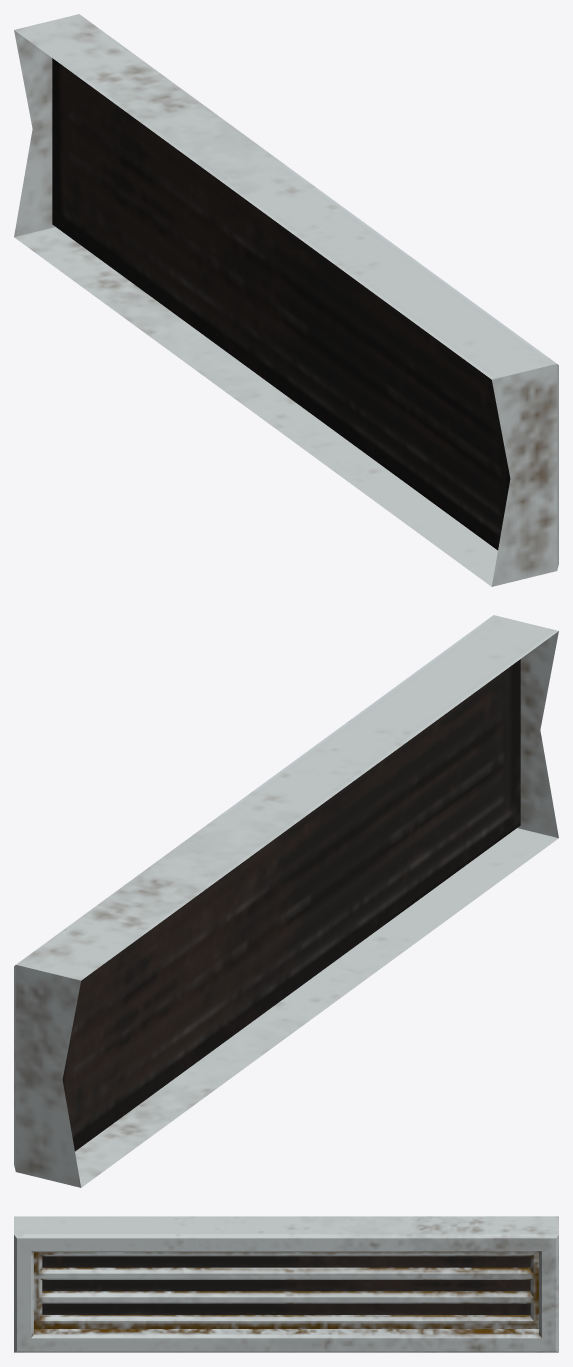
Rendered from outlet.glb.
The picture shows the model from 3 angles, top to bottom: view 1: azimuth 30°, elevation 25°; view 2: azimuth 150°, elevation 25°; view 3: azimuth 270°, elevation 25°; orthographic projection. The views are drawn at different scales.
Visible parts, largest first — view 1: duct_outlet_low_6; view 2: duct_outlet_low_6; view 3: duct_outlet_low_6.
Part boxes in pixels (x1=…): duct_outlet_low_6: x1=14, y1=14, x2=558, y2=586; duct_outlet_low_6: x1=14, y1=615, x2=558, y2=1187; duct_outlet_low_6: x1=14, y1=1216, x2=558, y2=1352.
Size of the model in its own units: 0.0404 by 0.1148 by 0.4797.
1 material, 1 textured.
